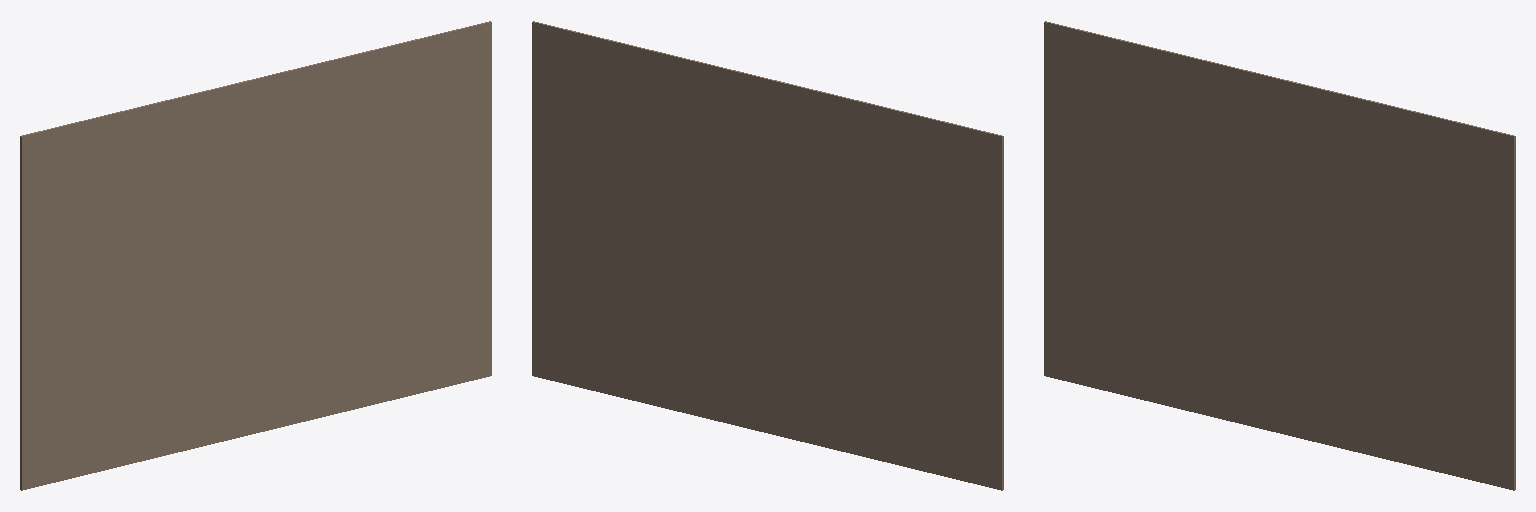
URDF robot description (cuboid_robot):
<?xml version="1.0"?>
<robot name="cuboid_robot">
    <link name="world"></link>

  <!-- Link: Base Cuboid -->
  <link name="cuboid_link">
    <visual>
      <origin xyz="0 0 0" rpy="0 0 0 "/>
      <geometry>
        <box size="2.5 0.01 1.8"/> <!-- Length, width, height -->
      </geometry>
      <material name="gray">
        <color rgba="0.6 0.53 0.47 1.0"/> <!-- Green color -->
      </material>
    </visual>

    <collision>
      <origin xyz="0 0 0" rpy="0 0 0"/>
      <geometry>
        <box size="2.5 0.01 1.8"/>
      </geometry>
    </collision>

    <inertial>
      <mass value="1.0"/>
      <inertia ixx="0.01" ixy="0.0" ixz="0.0" iyy="0.01" iyz="0.0" izz="0.01"/>
    </inertial>
  </link>

  <!-- Joint: Fixed Base -->
  <joint name="base_joint" type="fixed">
    <parent link="world"/>
    <child link="cuboid_link"/>
    <origin xyz="0 0 0" rpy="0 0 0"/>
  </joint>

</robot>

--- Facts derived from the render (not from the file) ---
Views: 3 orthographic renders of the robot side by side, from view 1: azimuth 30°, elevation 25°; view 2: azimuth 150°, elevation 25°; view 3: azimuth 330°, elevation 25°.
Model cuboid_robot with 2 links and 1 joints (1 fixed), rooted at world, posed all joints at 0.
Visible links, largest first — view 1: cuboid_link; view 2: cuboid_link; view 3: cuboid_link.
Link boxes in pixels (left/top/right/bottom): cuboid_link: left=20, top=21, right=491, bottom=490; cuboid_link: left=532, top=21, right=1003, bottom=490; cuboid_link: left=1044, top=21, right=1515, bottom=490.
Bounding box of the posed robot: 2.5 × 0.01 × 1.8 m (x, y, z).
Geometry: primitives only (box / cylinder / sphere), no mesh files.